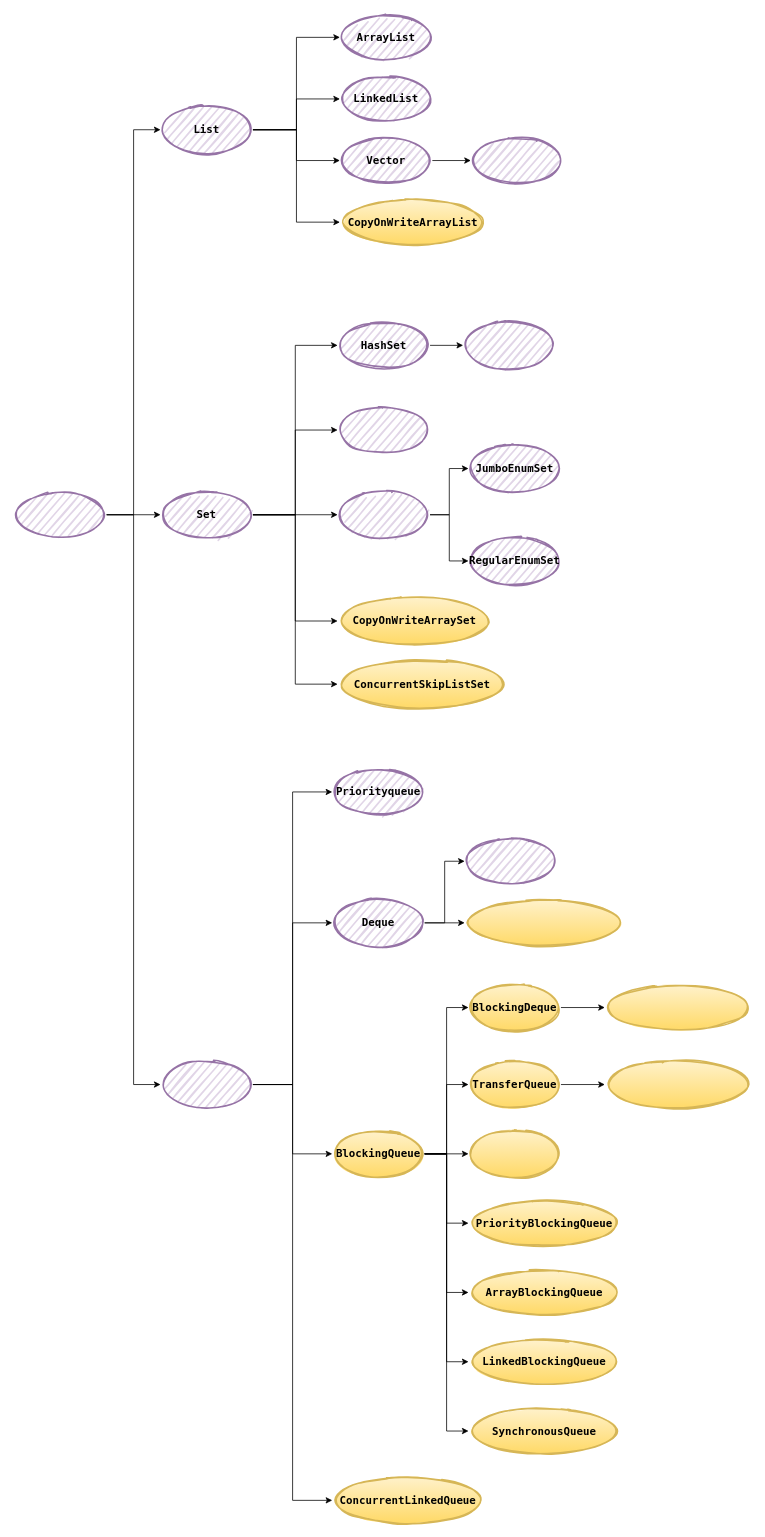
This 765x1537 diagram has some shape labels left out. The box of each missing label's shape, as (x1, y1, x2, y2) in pixels:
ArrayDeque: (464, 837, 557, 885)
Collection: (13, 490, 107, 538)
ConcurrentLinkedDeque: (464, 899, 624, 946)
DelayQueue: (467, 1130, 561, 1177)
EnumSet: (336, 490, 430, 538)
LinkedBlockingDeque: (604, 983, 752, 1031)
LinkedHashSet: (462, 321, 556, 369)
LinkedTransferQueue: (604, 1060, 752, 1108)
Queue: (159, 1060, 253, 1108)
Stack: (470, 136, 564, 184)
TreeSet: (336, 406, 430, 454)
